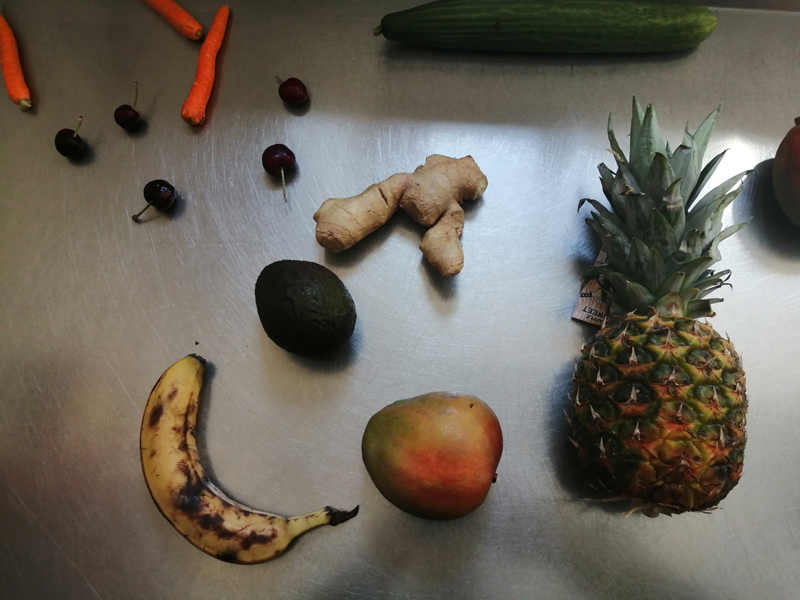avocado: (247, 254, 367, 373)
banana: (130, 354, 359, 573)
cherry: (98, 76, 156, 144), (124, 170, 193, 224), (49, 105, 95, 174), (254, 137, 300, 206), (267, 60, 318, 122)
mango: (354, 385, 505, 524)
pineapple: (565, 98, 749, 513)
